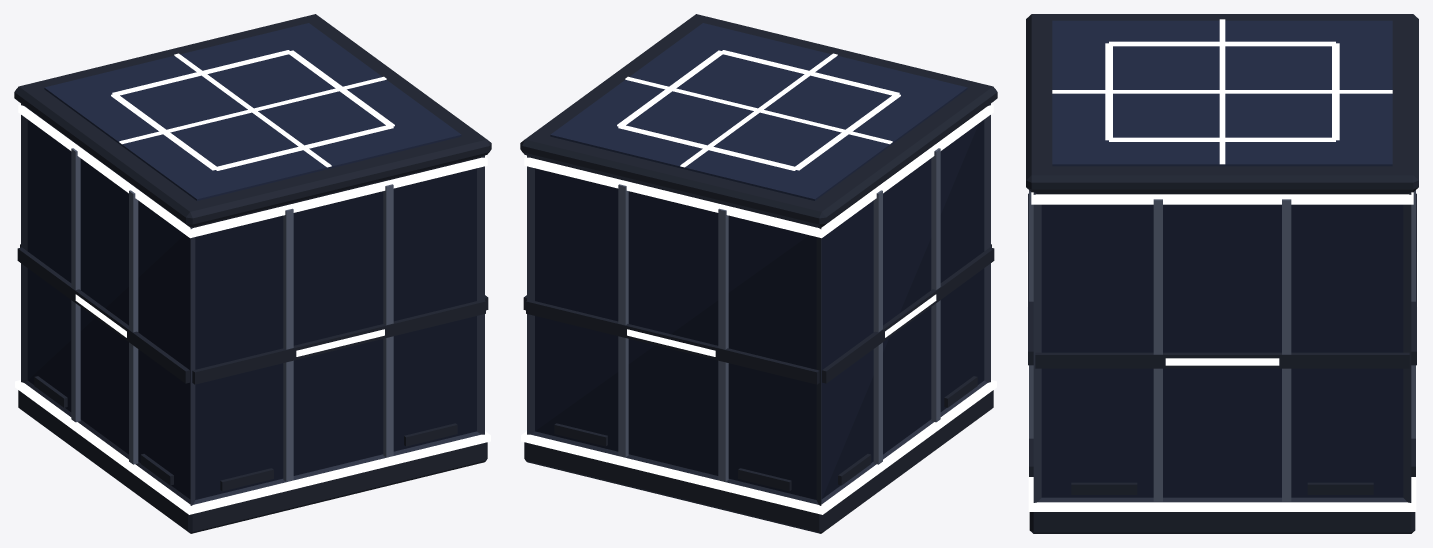
The model's file is kit-tokyo-wall.glb.
3 views of the same model, side by side, from view 1: azimuth 30°, elevation 25°; view 2: azimuth 150°, elevation 25°; view 3: azimuth 270°, elevation 25° (orthographic). The views are drawn at different scales.
Parts seen in each view (by area): view 1: kit-tokyo-wall; view 2: kit-tokyo-wall; view 3: kit-tokyo-wall.
Boxes of the visible parts, x1,y1,x2,y2 form: kit-tokyo-wall: [14, 14, 491, 533]; kit-tokyo-wall: [520, 14, 997, 533]; kit-tokyo-wall: [1026, 14, 1418, 533].
Size of the model in its own units: 2.08 by 2.12 by 2.08.
